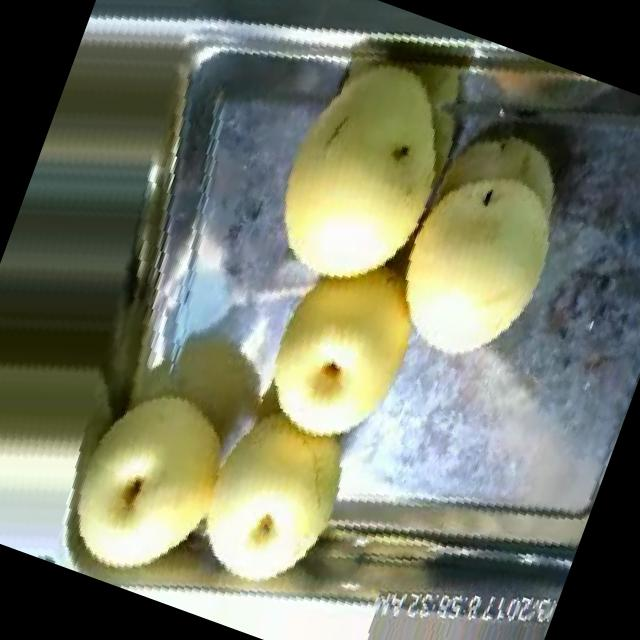Fruit: (225, 3, 486, 324), (376, 93, 618, 396), (18, 343, 278, 616), (138, 364, 398, 632), (220, 210, 463, 475)
